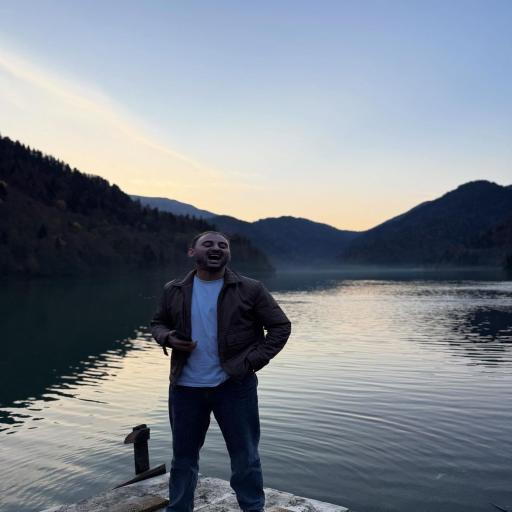laptop: (151, 232, 290, 511)
